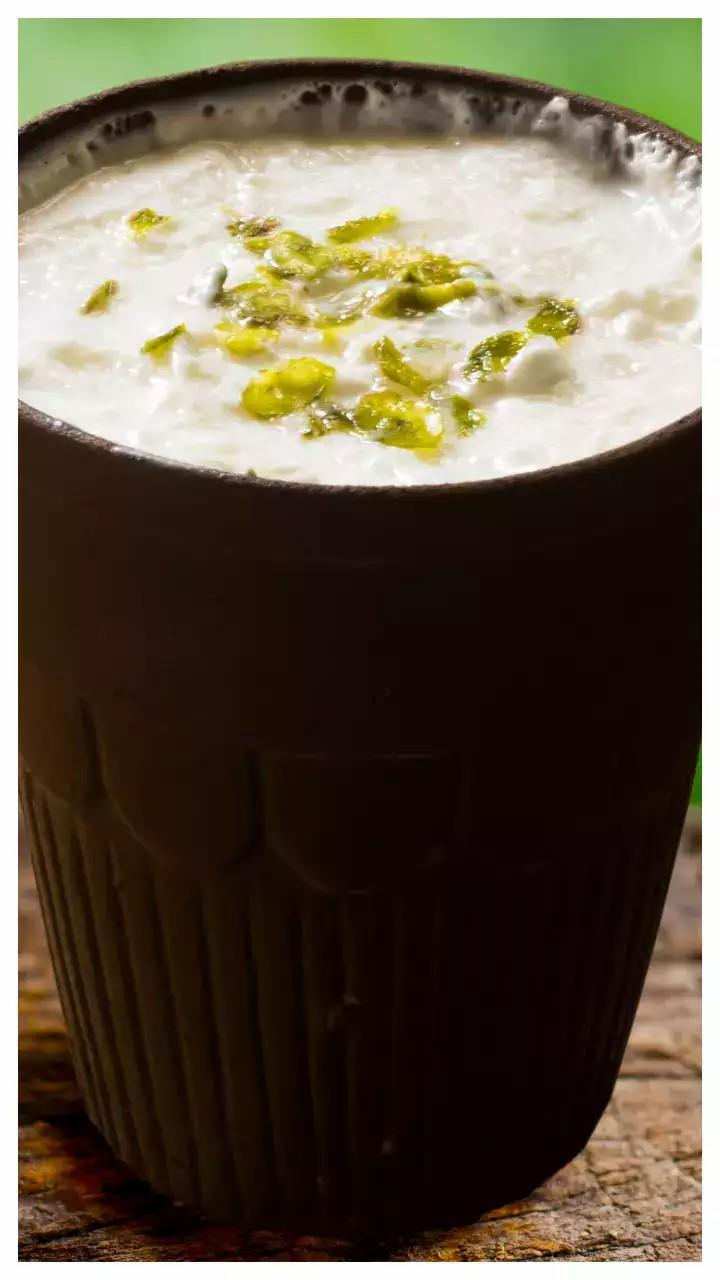Lassi: (17, 80, 702, 484)
